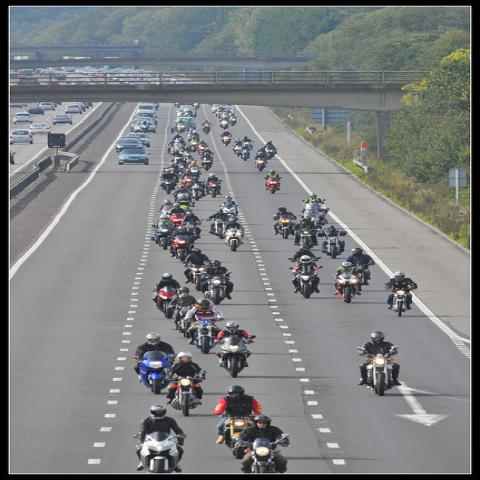car: (132, 101, 164, 125), (116, 148, 152, 165), (115, 136, 143, 151), (125, 132, 152, 146), (130, 117, 154, 132), (10, 130, 34, 144), (27, 123, 52, 135), (134, 122, 158, 134), (51, 114, 73, 125), (13, 112, 34, 123), (209, 104, 232, 113), (63, 104, 82, 114), (69, 103, 86, 112), (177, 104, 196, 112)
motorcycle: (132, 264, 328, 393), (131, 404, 187, 474), (209, 414, 265, 460), (358, 345, 402, 397), (163, 369, 207, 418), (237, 433, 290, 473), (213, 335, 256, 378), (186, 320, 224, 354), (198, 271, 233, 305), (382, 283, 415, 319), (166, 305, 198, 338), (333, 273, 364, 304), (150, 286, 178, 318), (218, 204, 239, 218)
